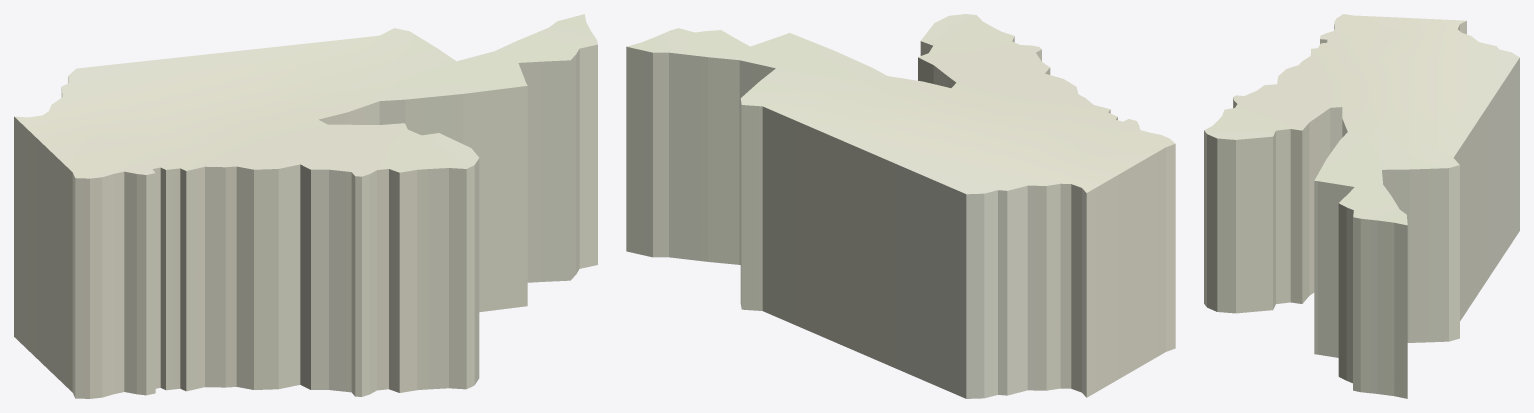
The model's file is neptune_twp.glb.
The picture shows the model from 3 angles, left to right: view 1: azimuth 30°, elevation 25°; view 2: azimuth 150°, elevation 25°; view 3: azimuth 270°, elevation 25°; orthographic projection. The views are drawn at different scales.
Parts seen in each view (by area): view 1: Plane.080; view 2: Plane.080; view 3: Plane.080.
Part boxes in pixels (<box>): Plane.080: <box>14,14,597,398</box>; Plane.080: <box>626,14,1175,398</box>; Plane.080: <box>1204,14,1519,398</box>.
Size of the model in its own units: 1.01 by 0.3856 by 0.6359.
Materials: 1 (1 with a texture image).
